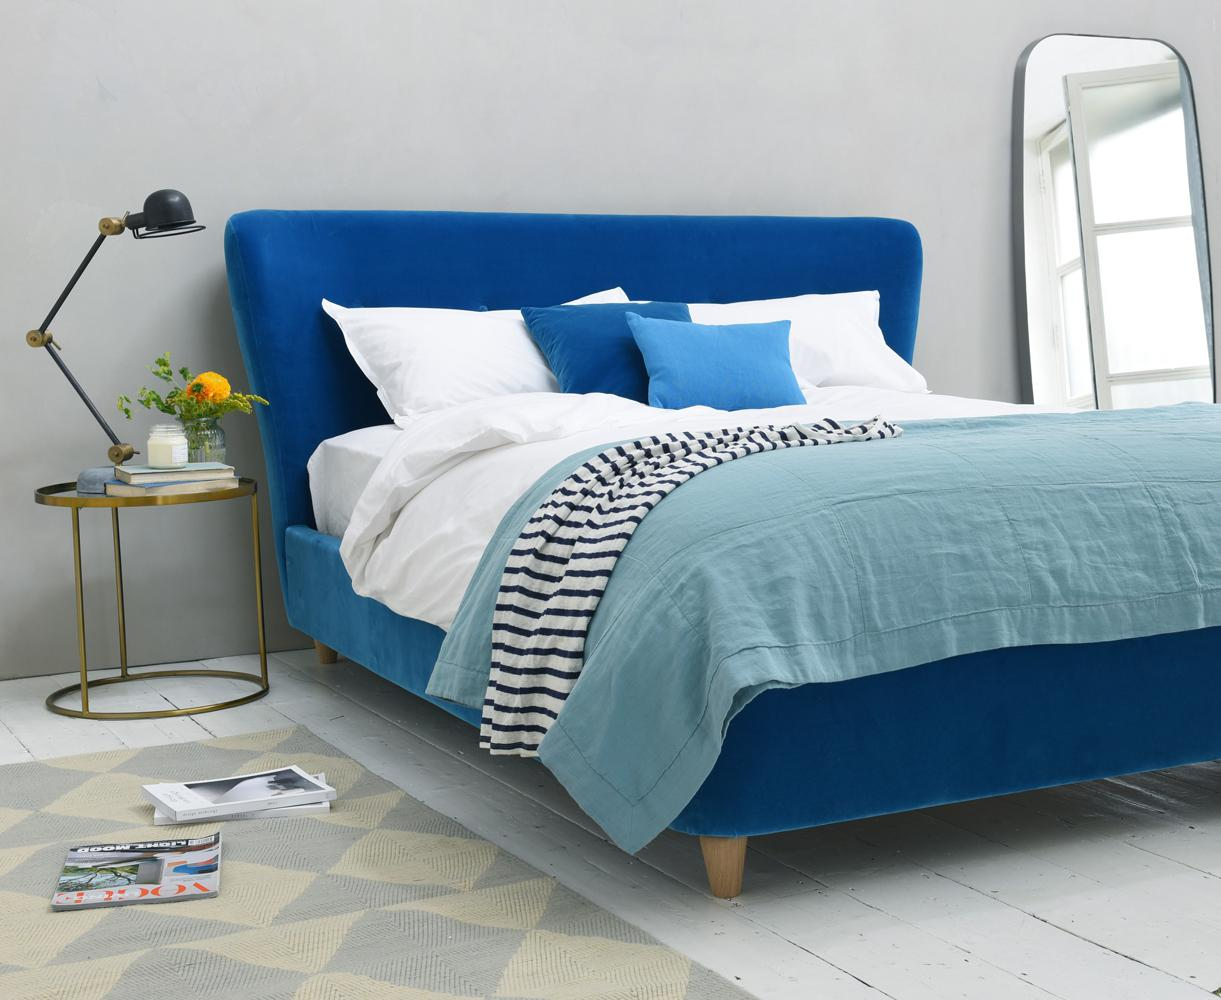bed: (214, 195, 1221, 945)
